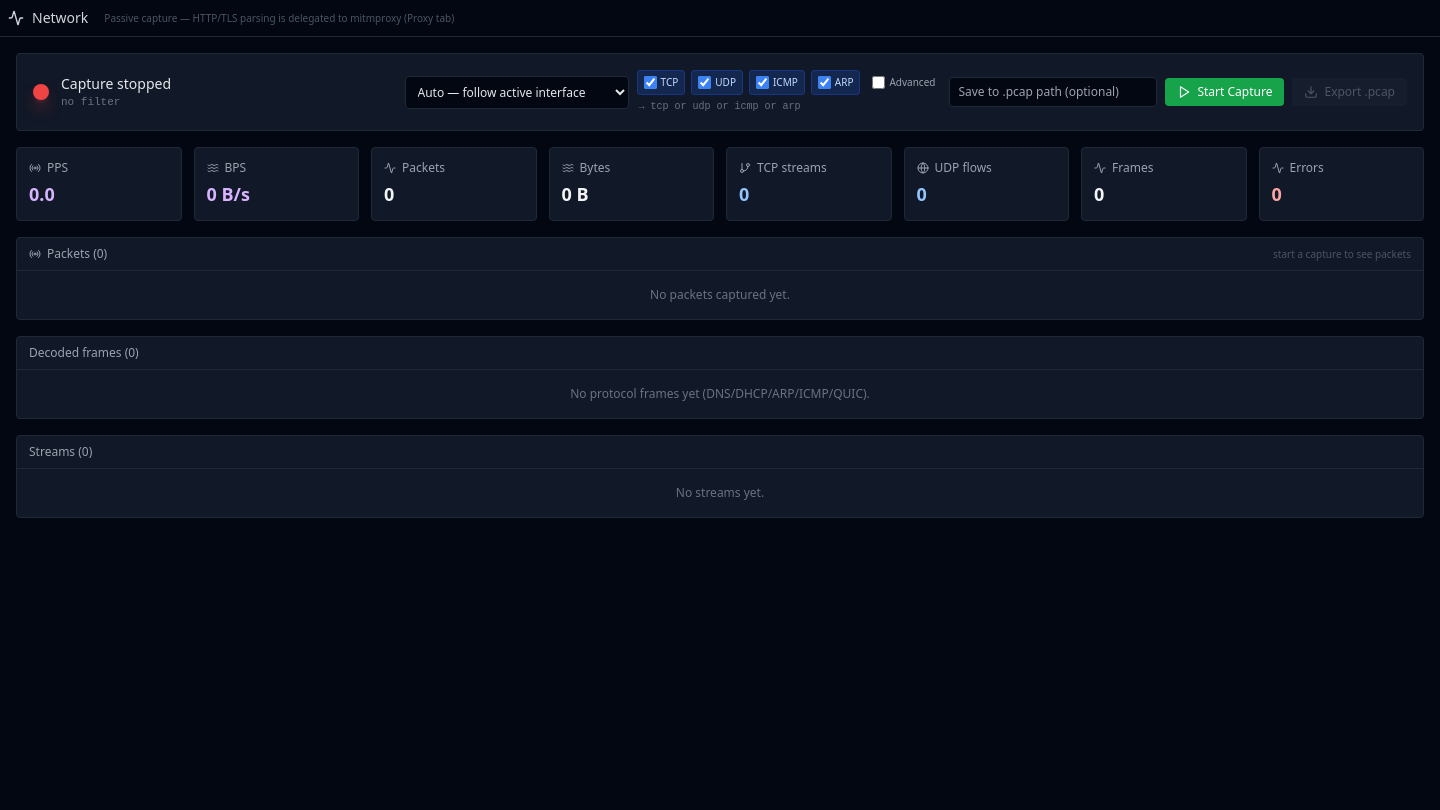
Test: Network — capture visibility warnings (virtual adapter + single-host filter) › warns pre-start when a virtual adapter is selected in the dropdown
This screenshot has width=1440, height=810.
Select "McAfee_VPN" in the dropdown at (516, 92), box [404,76,628,108]
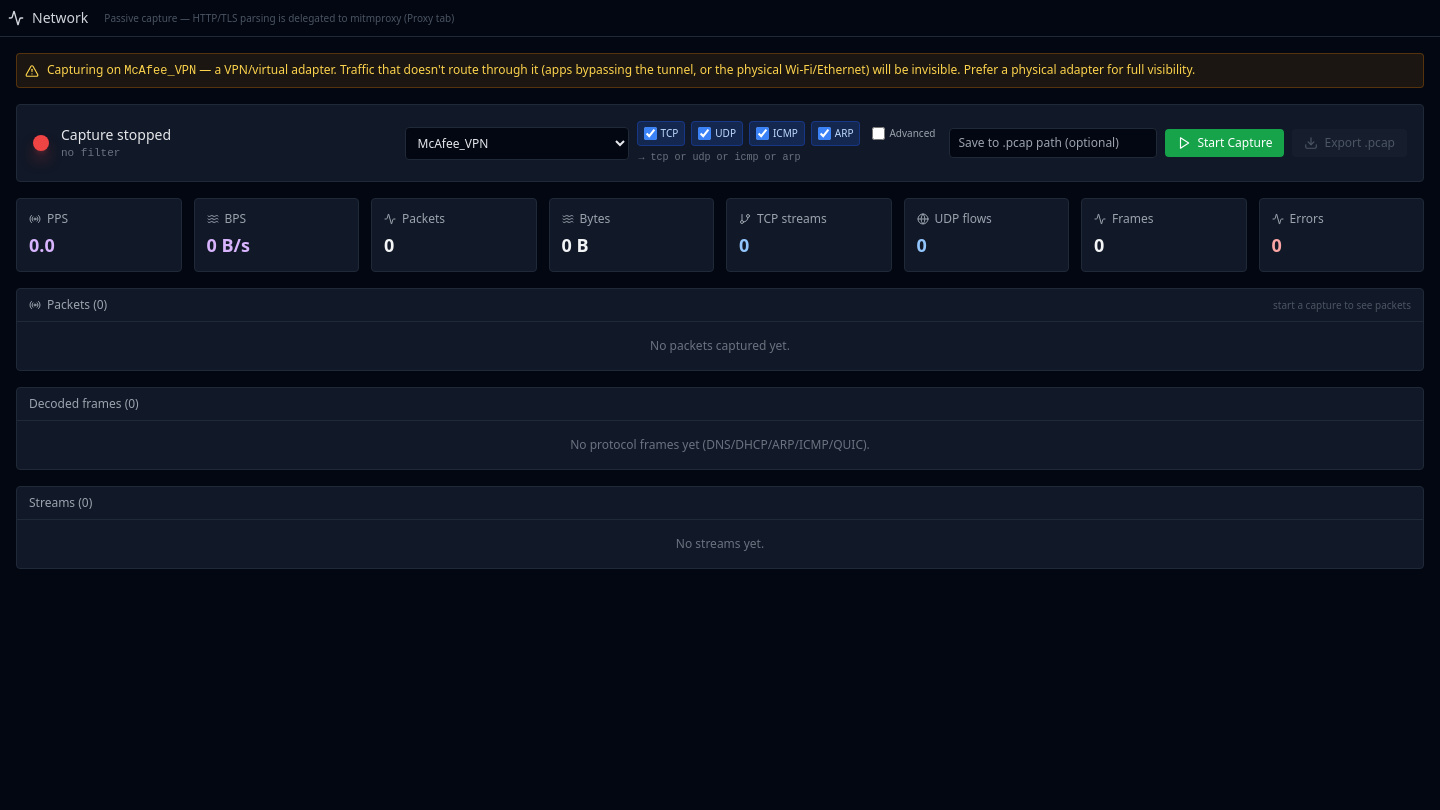
Now the message shows "McAfee_VPN", box [124,64,196,78]
